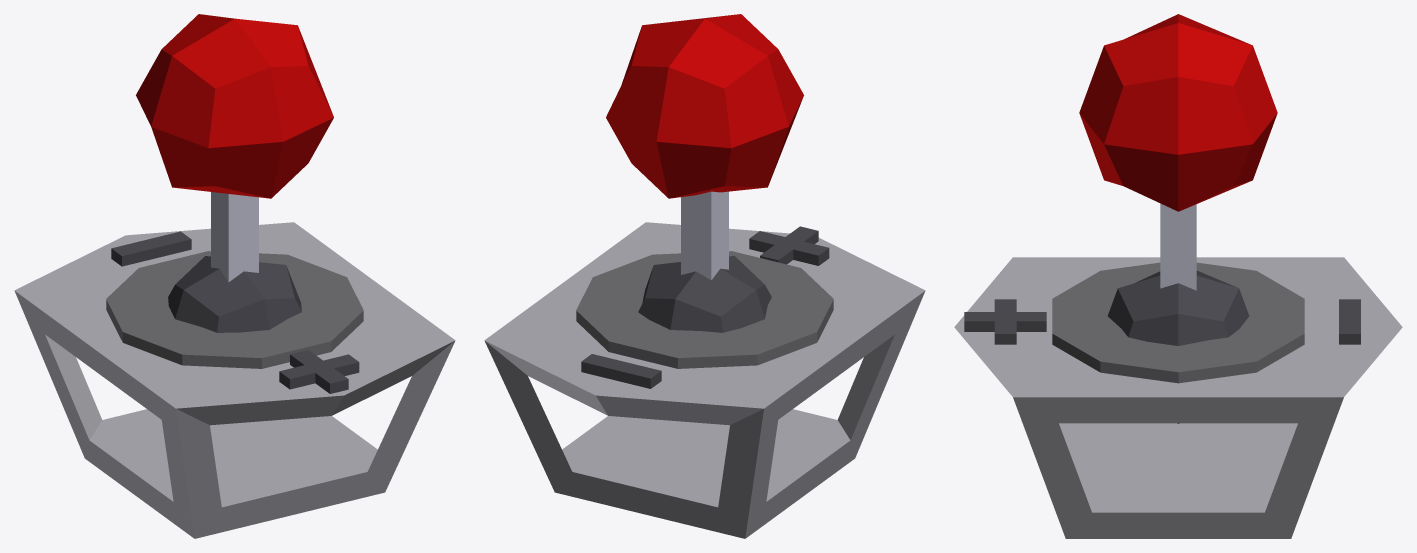
File: item_joystick.glb
3 renders of one model, left to right at view 1: azimuth 30°, elevation 25°; view 2: azimuth 150°, elevation 25°; view 3: azimuth 270°, elevation 25°, orthographic. The views are drawn at different scales.
Visible parts, largest first — view 1: joystick_base.001, joystick_stick; view 2: joystick_base.001, joystick_stick; view 3: joystick_base.001, joystick_stick.
Part boxes in pixels (box(x1,y1,x2,y2)): joystick_base.001: box(14, 222, 455, 538); joystick_stick: box(136, 14, 333, 332); joystick_base.001: box(484, 222, 925, 538); joystick_stick: box(606, 14, 803, 332); joystick_base.001: box(954, 257, 1402, 538); joystick_stick: box(1079, 14, 1277, 423).
Bounding box in the file's own units: 0.0951 × 0.1483 × 0.1287.
